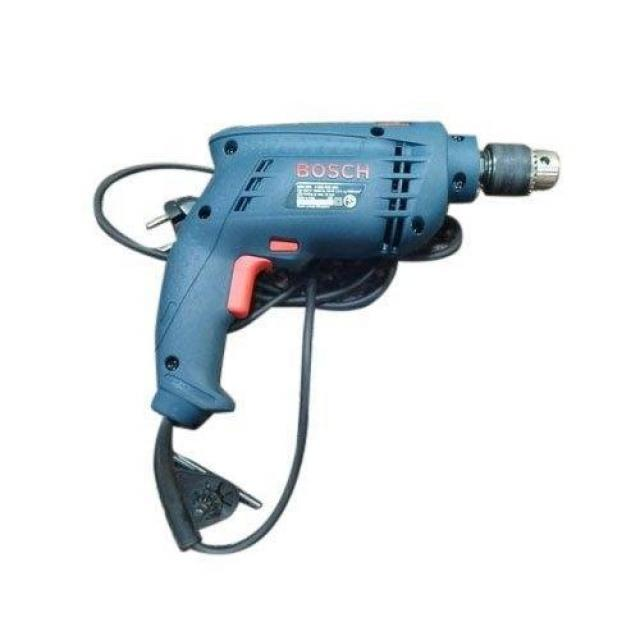drill: (149, 120, 563, 552)
